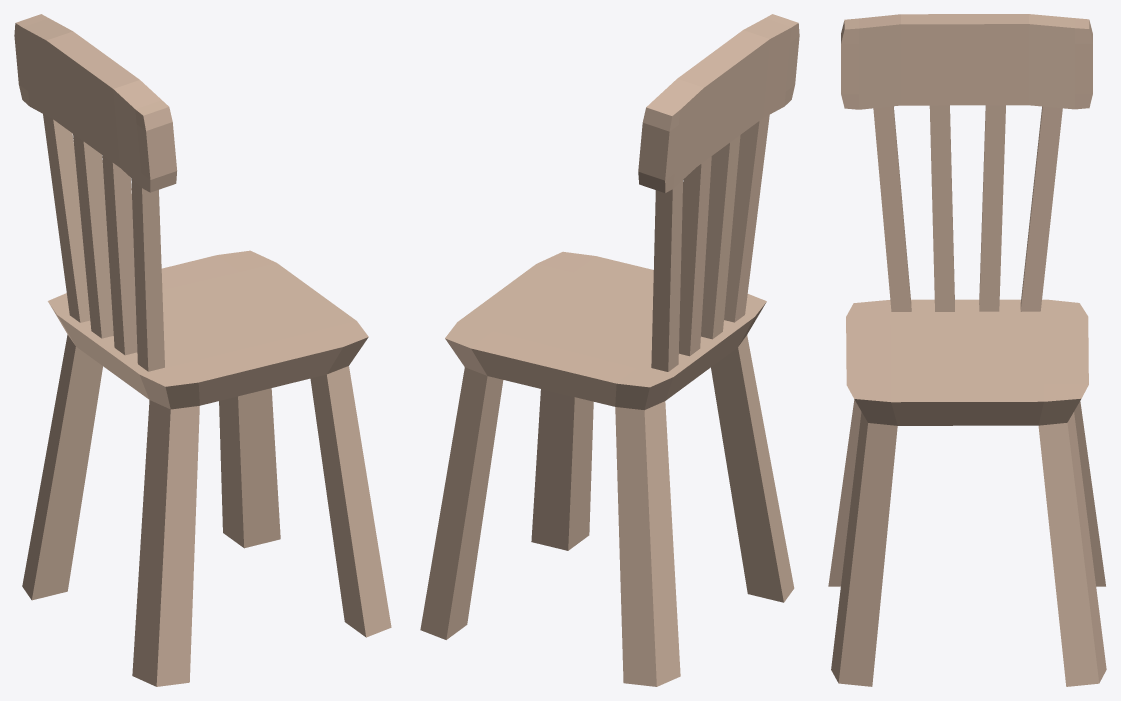
The model's file is Chair.gltf.
3 views of the same model, side by side, from view 1: azimuth 30°, elevation 25°; view 2: azimuth 150°, elevation 25°; view 3: azimuth 270°, elevation 25° (orthographic). The views are drawn at different scales.
Visible parts, largest first — view 1: Cube.001; view 2: Cube.001; view 3: Cube.001.
Boxes of the visible parts, x1=… form: Cube.001: x1=14, y1=14, x2=391, y2=686; Cube.001: x1=420, y1=14, x2=799, y2=686; Cube.001: x1=828, y1=14, x2=1106, y2=686.
Bounding box in the file's own units: 0.6973 × 1.52 × 0.6876.
